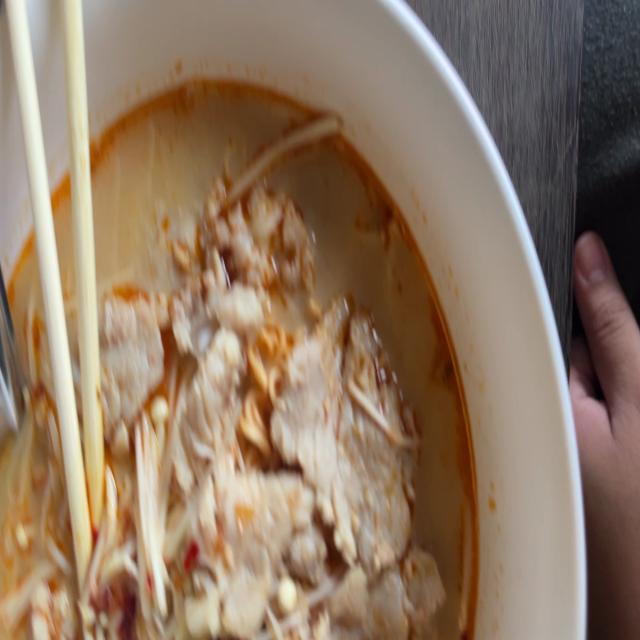noodle: (0, 64, 485, 640)
